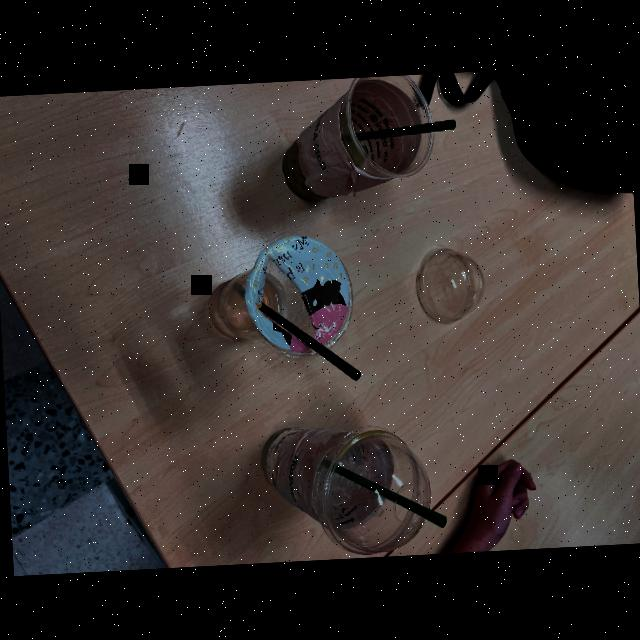plastic_cup: (236, 416, 407, 550), (194, 234, 356, 370), (277, 78, 433, 218)
plastic_cup_lid: (311, 415, 433, 560), (399, 238, 492, 340)
straw: (326, 444, 459, 541), (262, 298, 358, 387), (338, 114, 464, 141)
